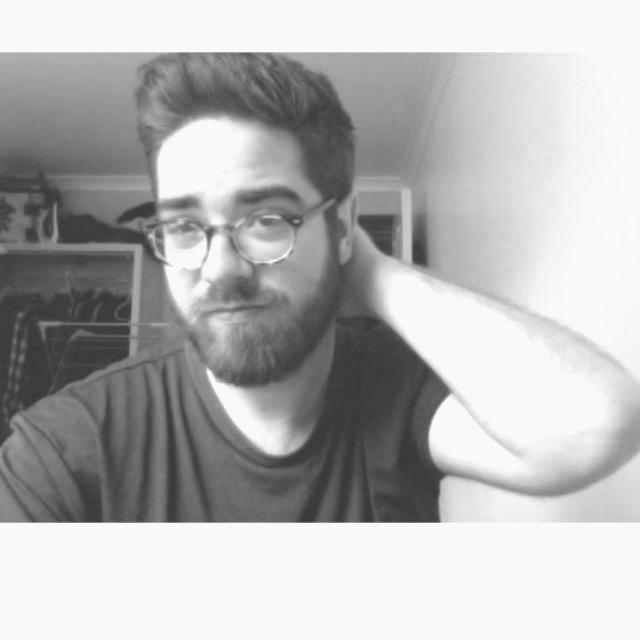real: (158, 124, 312, 374)
